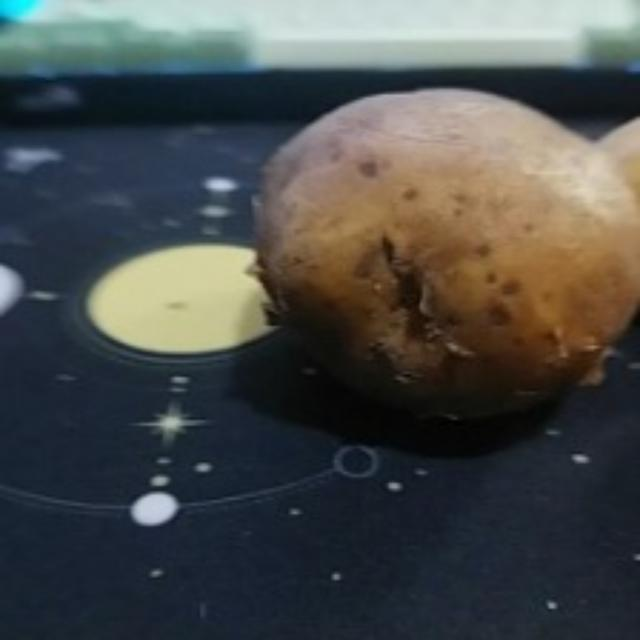Damaged potato: (245, 76, 640, 428)
